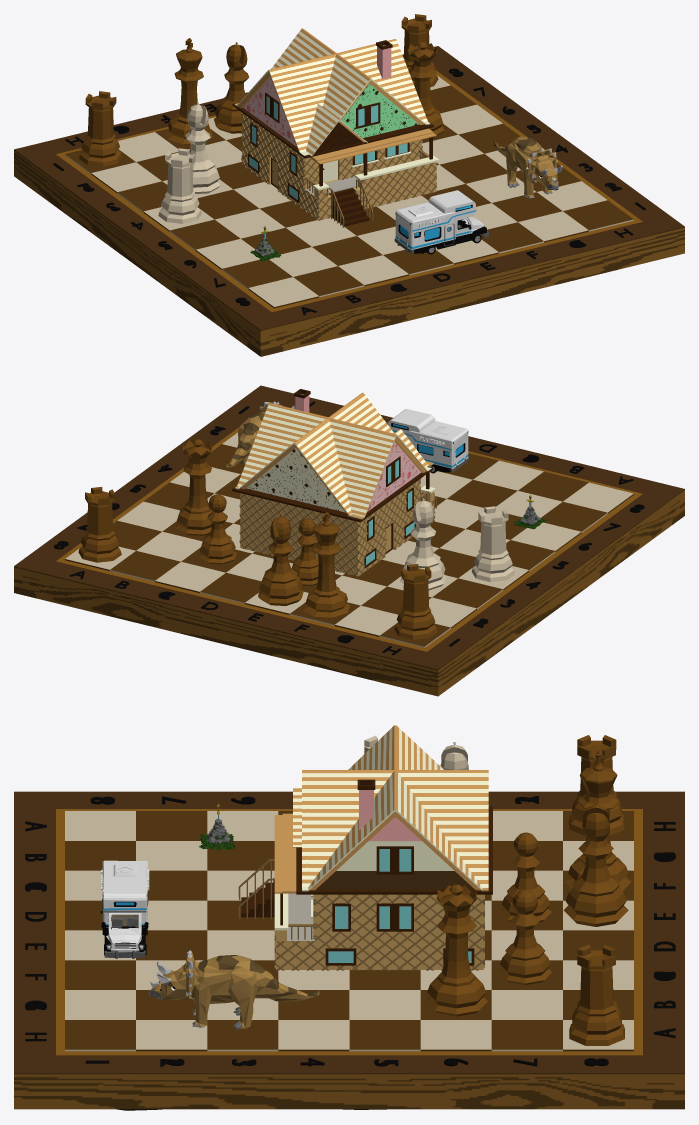
3 views of the same model, one above another, from view 1: azimuth 30°, elevation 25°; view 2: azimuth 150°, elevation 25°; view 3: azimuth 270°, elevation 25° (orthographic). The views are drawn at different scales.
Parts seen in each view (by area): view 1: Cube.002, Cube.1102, VEHICLES_CAMPER, ANIMAL_Triceratops; view 2: Cube.002, Cube.1102, VEHICLES_CAMPER, ANIMAL_Triceratops; view 3: Cube.002, Cube.1102, ANIMAL_Triceratops, VEHICLES_CAMPER, OBJRANDOM_SWORD_IN_THE_STONE.
Boxes of the visible parts, <box> form: Cube.002: <box>14,14,684,356</box>; Cube.1102: <box>232,28,439,227</box>; VEHICLES_CAMPER: <box>394,190,488,254</box>; ANIMAL_Triceratops: <box>494,136,562,198</box>; Cube.002: <box>14,385,684,696</box>; Cube.1102: <box>232,389,436,576</box>; VEHICLES_CAMPER: <box>387,409,469,473</box>; ANIMAL_Triceratops: <box>226,401,294,467</box>; Cube.002: <box>14,735,684,1109</box>; Cube.1102: <box>238,725,492,970</box>; ANIMAL_Triceratops: <box>148,950,319,1029</box>; VEHICLES_CAMPER: <box>100,860,149,958</box>; OBJRANDOM_SWORD_IN_THE_STONE: <box>198,803,234,850</box>.
Bounding box in the file's own units: 3981 × 1457 × 4012.
39 materials, 3 textured.
